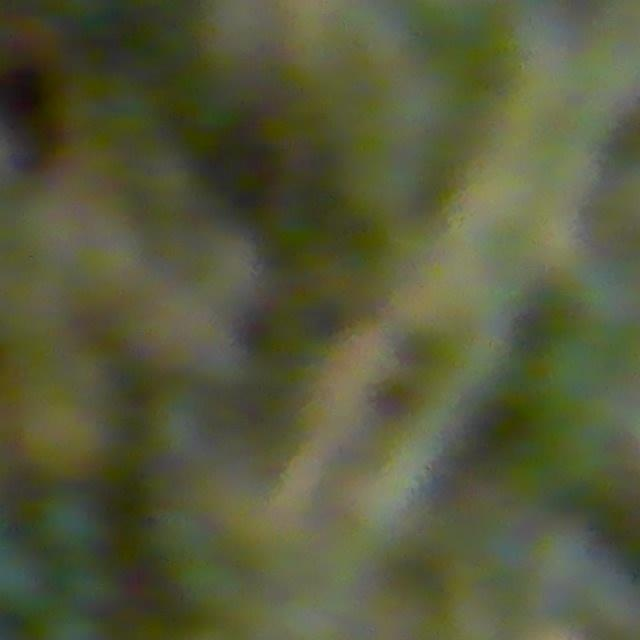SeaGrape: (143, 390, 224, 471), (33, 487, 109, 558)
